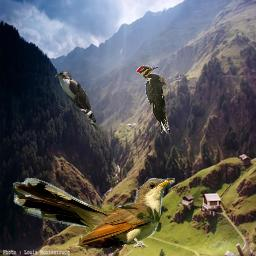Cuckoo: (13, 178, 175, 250), (55, 71, 101, 132)
Woodpecker: (136, 65, 171, 134)
